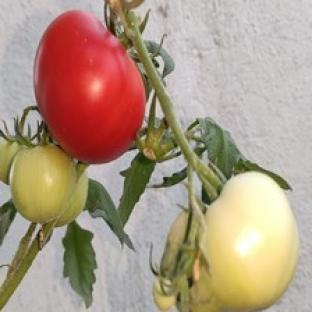Tomato: (34, 10, 146, 164), (201, 172, 299, 311), (10, 145, 76, 224), (56, 172, 87, 227), (0, 141, 22, 183), (152, 279, 175, 311)
